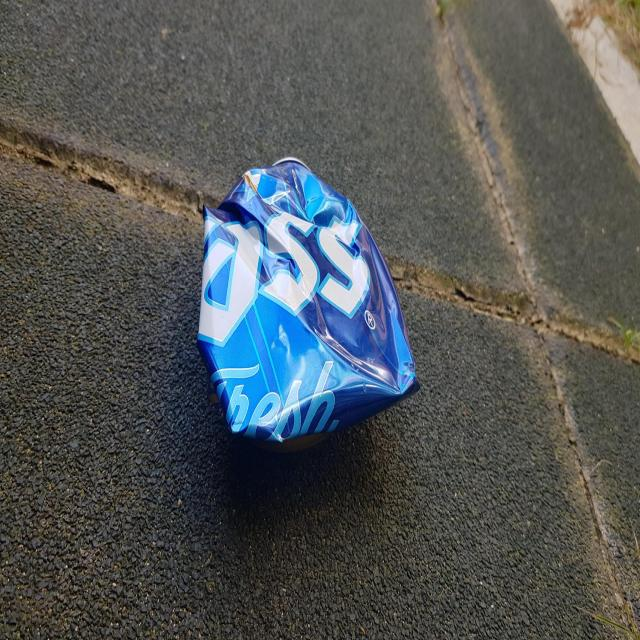can: (198, 156, 420, 451)
